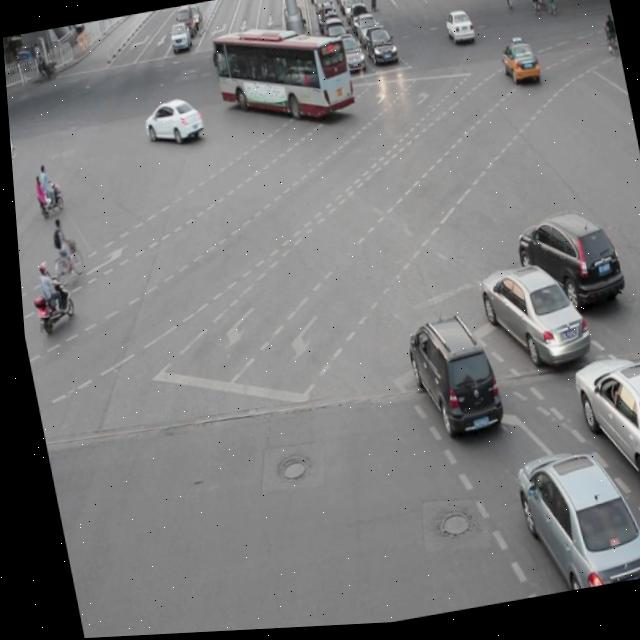car: (502, 442, 640, 602), (471, 259, 586, 378), (561, 349, 640, 522), (396, 313, 499, 443), (507, 207, 622, 320), (138, 95, 204, 150)
van: (209, 18, 356, 136)
